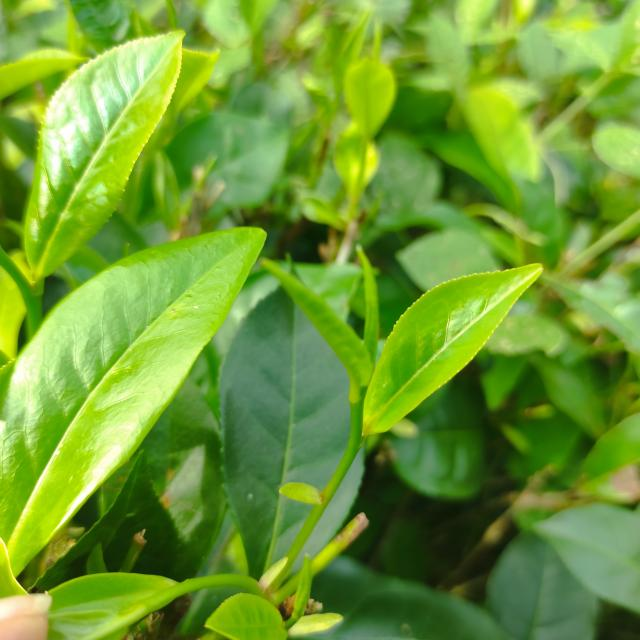unopened_leaf: (351, 244, 386, 378), (286, 544, 319, 630)
